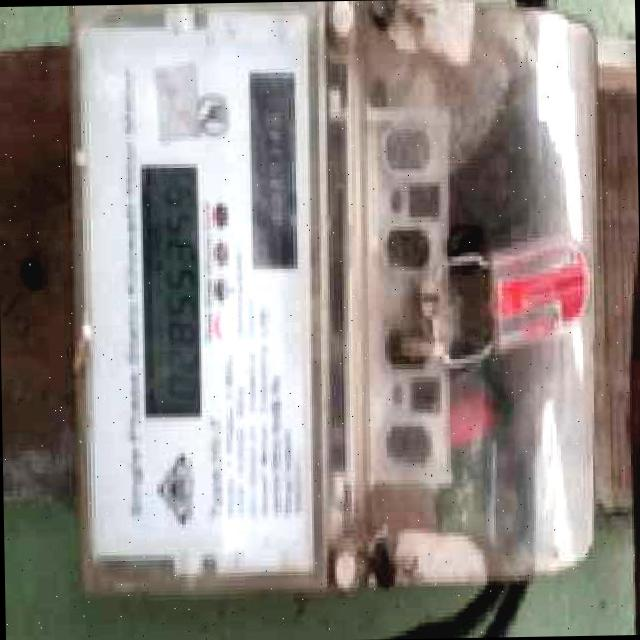LCD: (132, 157, 213, 426)
